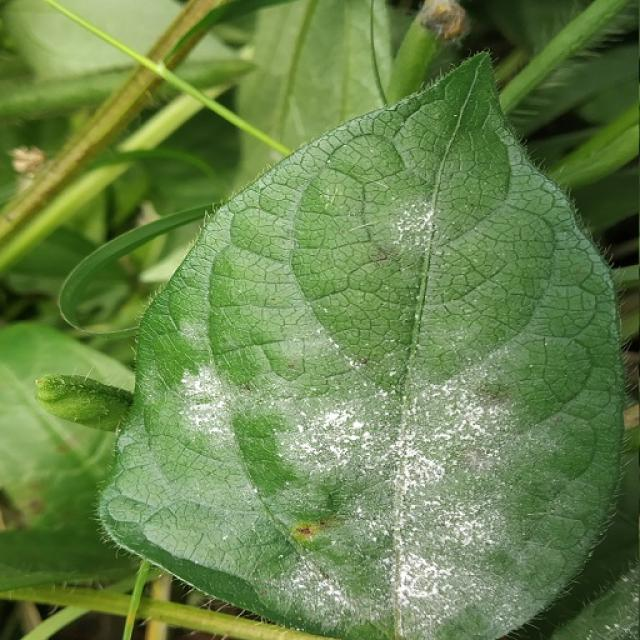Blackgram: (100, 55, 622, 639)
Powdery_Mildew: (282, 183, 479, 455), (386, 356, 574, 547), (286, 397, 500, 487), (285, 361, 422, 501), (371, 402, 458, 514), (276, 539, 385, 626), (391, 517, 473, 623), (162, 361, 244, 456), (415, 388, 499, 467), (419, 481, 496, 558), (372, 191, 440, 264), (305, 404, 360, 444), (180, 373, 195, 389), (350, 419, 365, 432), (386, 366, 399, 380)
